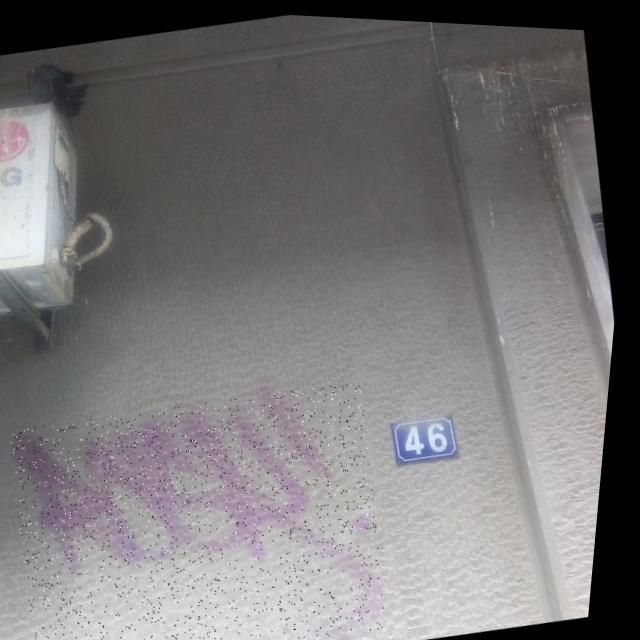-: (2, 362, 415, 640)
